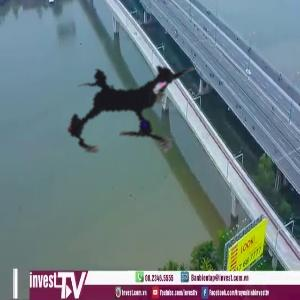drone: (25, 6, 234, 215)
